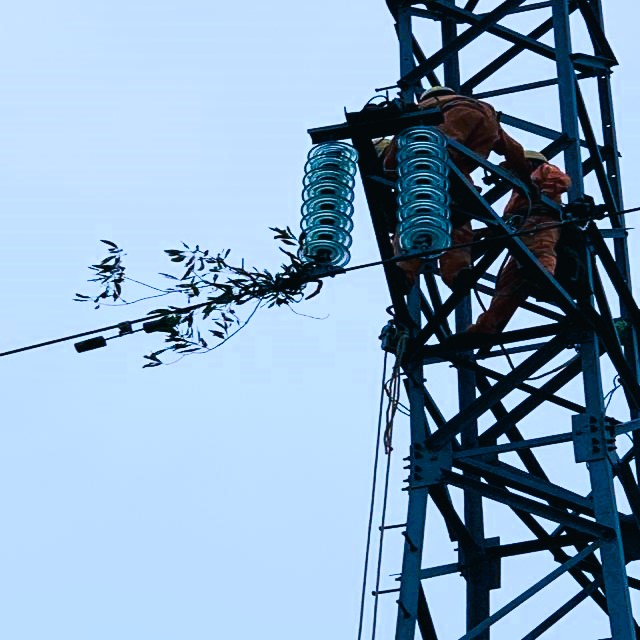wire foreign body: (127, 214, 316, 372)
